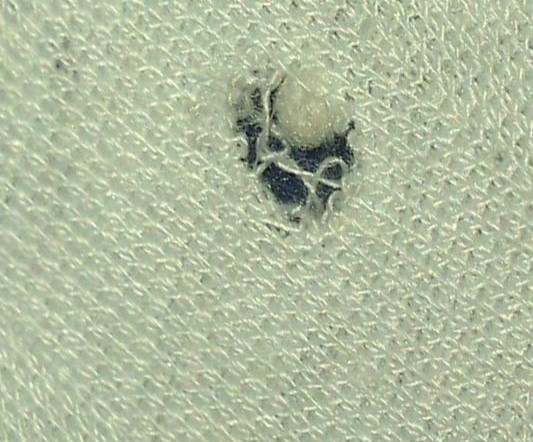hole: (256, 51, 361, 159)
